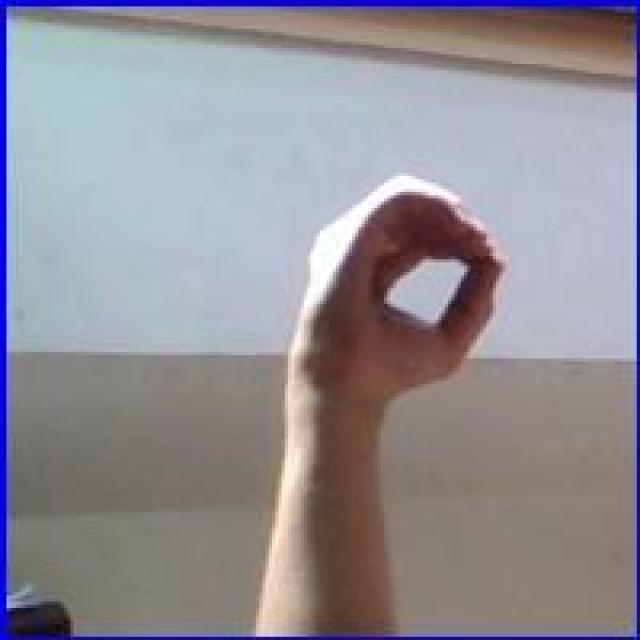O: (293, 163, 510, 410)
